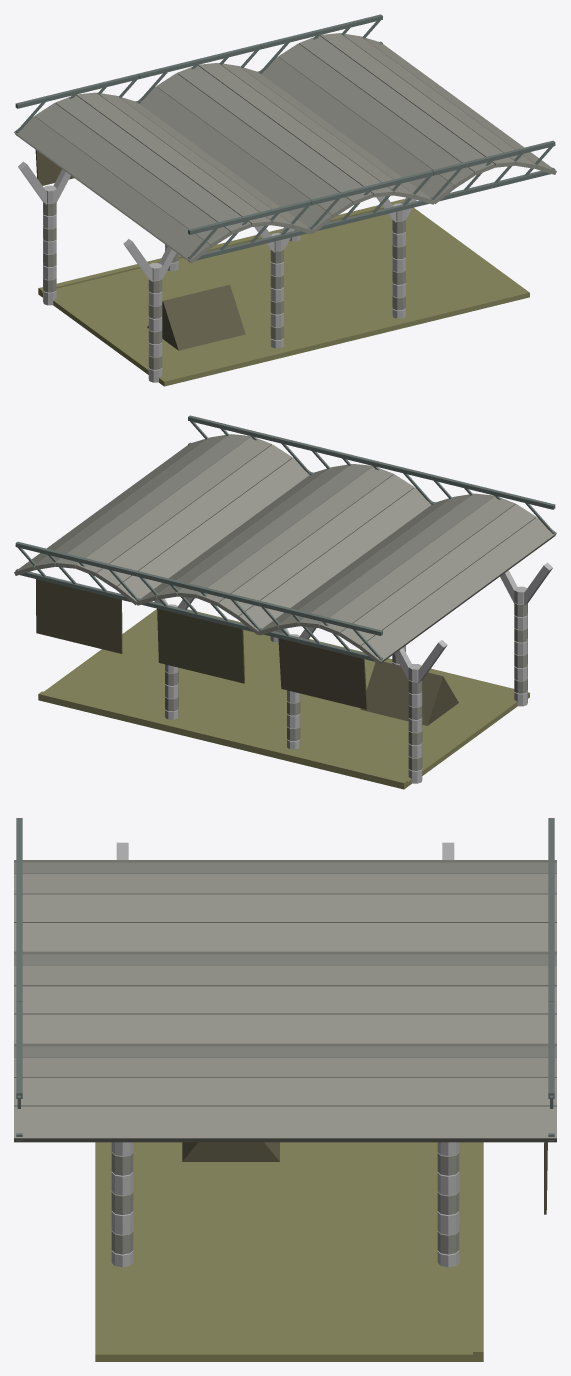
File: SM_MarquesinaBus_v3_Lonas_e0_Sano_LOD0.fbx
3 views of the same model, one above another, from view 1: azimuth 30°, elevation 25°; view 2: azimuth 150°, elevation 25°; view 3: azimuth 270°, elevation 25° (orthographic). The views are drawn at different scales.
Parts seen in each view (by area): view 1: SM_marquesina_bus_v12_LOD0; view 2: SM_marquesina_bus_v12_LOD0; view 3: SM_marquesina_bus_v12_LOD0.
Part boxes in pixels (left/top/right/bottom): SM_marquesina_bus_v12_LOD0: left=14, top=14, right=556, bottom=386; SM_marquesina_bus_v12_LOD0: left=14, top=415, right=556, bottom=789; SM_marquesina_bus_v12_LOD0: left=14, top=818, right=556, bottom=1361.
Size of the model in its own units: 13.02 by 5.46 by 10.
